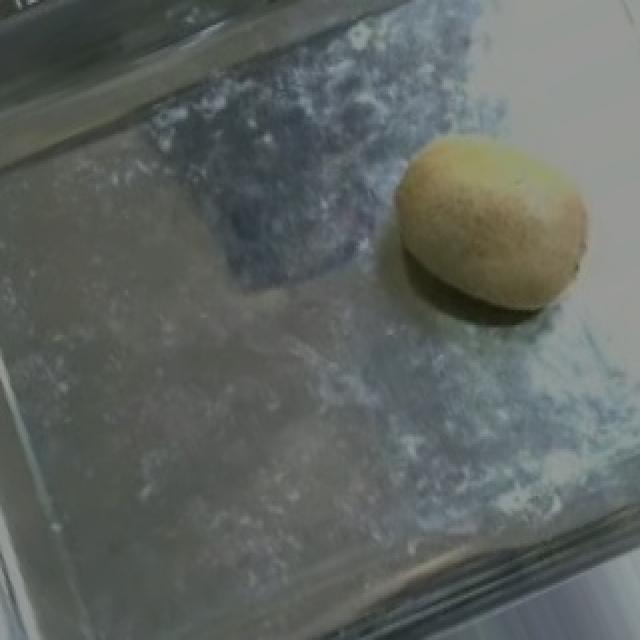Fruit: (358, 99, 628, 345)
